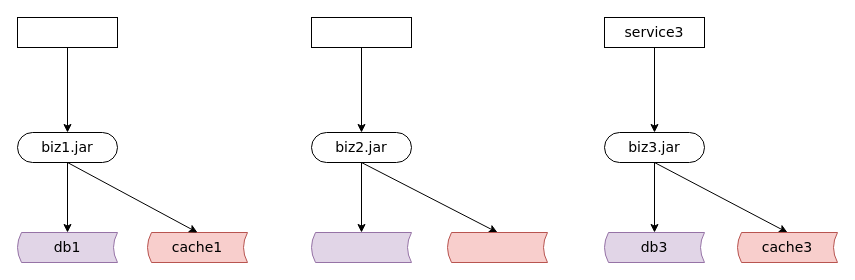
Some shapes in this 855 by 280 pixel diagram are drawn without their labels. Here are the shapes that lost their labels. From the top down, the centre of each, then its label:
At (67,32): "service1".
At (361,32): "service2".
At (361,247): "db2".
At (497,247): "cache2".
